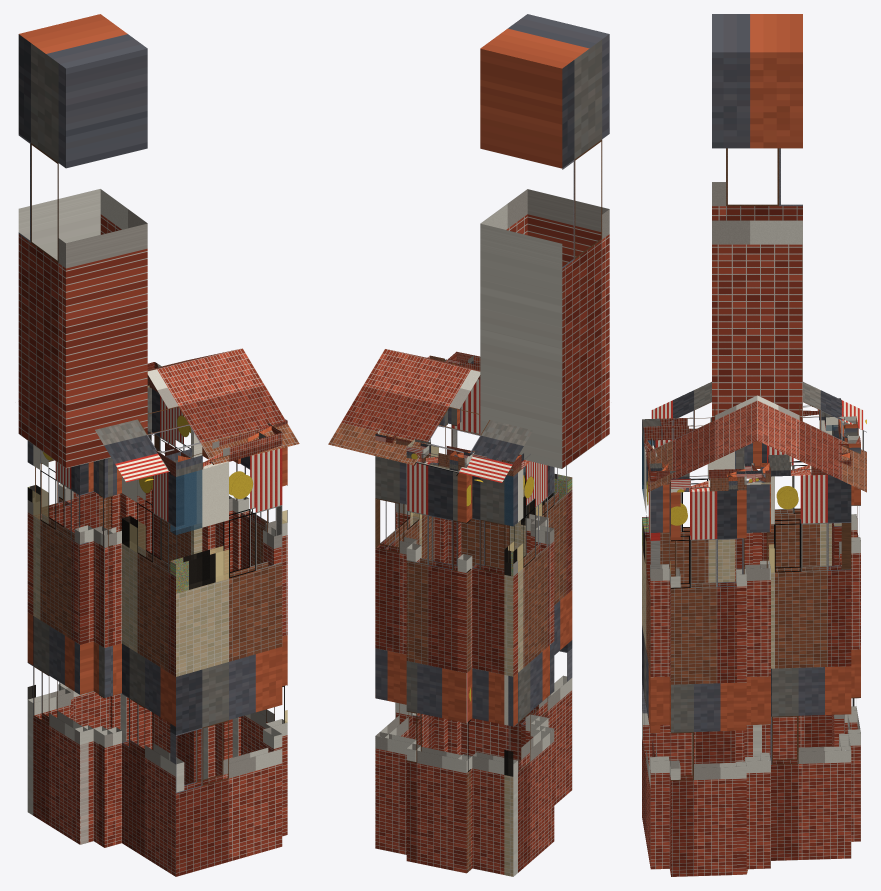
3 renders of one model, left to right at view 1: azimuth 30°, elevation 25°; view 2: azimuth 150°, elevation 25°; view 3: azimuth 270°, elevation 25°, orthographic. The views are drawn at different scales.
Parts seen in each view (by area): view 1: 535007080__chimney_0_xb, 535007080__wall_17_xb, 535007080__wall_16_xb, 535007080__wall_12_xb, 535007080_roof_-1_xb, 535007080__wall_6_xb, 535007080__wall_14_xb, 535007080__wall_15_xb, 535007080__wall_13_xb, 535007080__wall_11_xb, 535007080__wall_17_xf, 535007080__wall_7_xb (+10 smaller); view 2: 535007080__chimney_0_xb, 535007080__wall_9_xb, 535007080__wall_12_xb, 535007080__wall_11_xb, 535007080_roof_1_xb, 535007080__wall_7_xb, 535007080__wall_16_xb, 535007080__wall_17_xb, 535007080__wall_10_xb, 535007080__wall_13_xb, 535007080__wall_6_xb, 535007080__wall_12_xf (+5 smaller); view 3: 535007080__chimney_0_xb, 535007080__wall_6_xb, 535007080__wall_2_xb, 535007080__wall_4_xb, 535007080__wall_16_xb, 535007080__wall_0_xb, 535007080__wall_12_xb, 535007080_roof_1_xb, 535007080_roof_-1_xb, 535007080__wall_17_xb, 535007080__wall_3_xb, 535007080__wall_8_xb (+11 smaller).
Boxes of the visible parts, bbox=[...] form: 535007080__chimney_0_xb: bbox=[18, 14, 147, 468]; 535007080__wall_17_xb: bbox=[170, 448, 282, 876]; 535007080__wall_16_xb: bbox=[122, 472, 184, 876]; 535007080__wall_12_xb: bbox=[27, 445, 88, 844]; 535007080_roof_-1_xb: bbox=[95, 348, 299, 482]; 535007080__wall_6_xb: bbox=[152, 389, 202, 784]; 535007080__wall_14_xb: bbox=[93, 457, 112, 847]; 535007080__wall_15_xb: bbox=[99, 459, 121, 847]; 535007080__wall_13_xb: bbox=[74, 461, 93, 844]; 535007080__wall_11_xb: bbox=[27, 441, 70, 815]; 535007080__wall_17_xf: bbox=[170, 470, 228, 592]; 535007080__wall_7_xb: bbox=[120, 386, 159, 749]; 535007080__chimney_0_xb: bbox=[480, 14, 609, 468]; 535007080__wall_9_xb: bbox=[406, 462, 470, 872]; 535007080__wall_12_xb: bbox=[504, 461, 554, 876]; 535007080__wall_11_xb: bbox=[472, 473, 517, 876]; 535007080_roof_1_xb: bbox=[328, 349, 532, 482]; 535007080__wall_7_xb: bbox=[375, 456, 416, 854]; 535007080__wall_16_xb: bbox=[521, 466, 572, 805]; 535007080__wall_17_xb: bbox=[452, 379, 572, 761]; 535007080__wall_10_xb: bbox=[457, 471, 472, 873]; 535007080__wall_13_xb: bbox=[535, 466, 554, 844]; 535007080__wall_6_xb: bbox=[375, 501, 421, 846]; 535007080__wall_12_xf: bbox=[504, 475, 522, 775]; 535007080__chimney_0_xb: bbox=[712, 14, 802, 421]; 535007080__wall_6_xb: bbox=[769, 474, 851, 860]; 535007080__wall_2_xb: bbox=[670, 487, 746, 876]; 535007080__wall_4_xb: bbox=[745, 480, 770, 869]; 535007080__wall_16_xb: bbox=[642, 436, 735, 775]; 535007080__wall_0_xb: bbox=[650, 484, 669, 869]; 535007080__wall_12_xb: bbox=[762, 420, 841, 759]; 535007080_roof_1_xb: bbox=[757, 382, 866, 492]; 535007080_roof_-1_xb: bbox=[648, 382, 757, 492]; 535007080__wall_17_xb: bbox=[642, 434, 660, 867]; 535007080__wall_3_xb: bbox=[736, 490, 746, 874]; 535007080__wall_8_xb: bbox=[848, 485, 860, 841].
Bounding box in the file's own units: 0.3674 × 1.4 × 0.371.
1 material, 1 textured.
